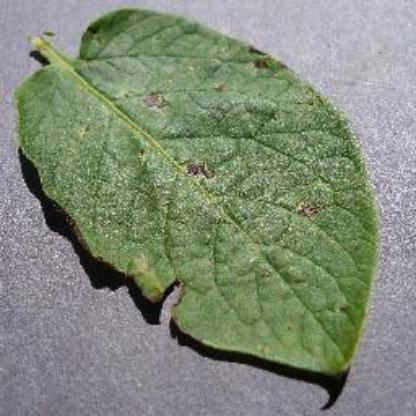Early-Blight: (13, 7, 379, 381)
